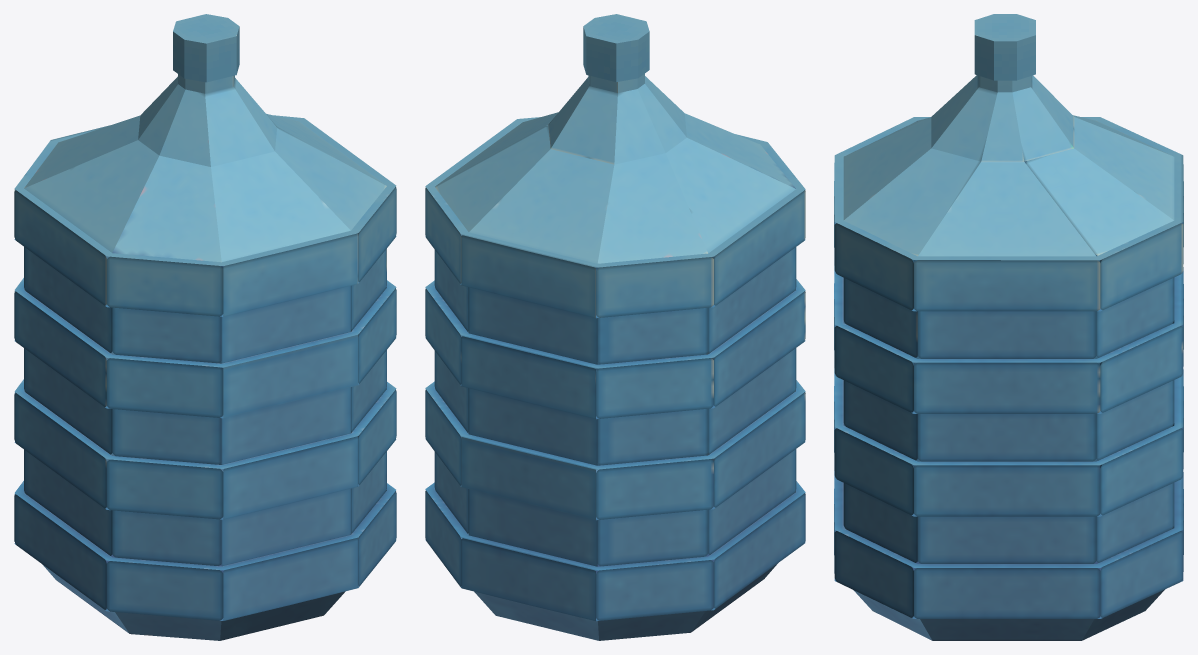
File: watergallon.obj
The picture shows the model from 3 angles, left to right: view 1: azimuth 30°, elevation 25°; view 2: azimuth 150°, elevation 25°; view 3: azimuth 270°, elevation 25°; orthographic projection.
Visible parts, largest first — view 1: GallonCapped; view 2: GallonCapped; view 3: GallonCapped.
Boxes of the visible parts, x1=… form: GallonCapped: x1=14, y1=14, x2=396, y2=640; GallonCapped: x1=425, y1=14, x2=805, y2=640; GallonCapped: x1=834, y1=14, x2=1183, y2=640.
Size of the model in its own units: 0.7195 by 1.31 by 0.7438.
2 materials, 2 textured.
